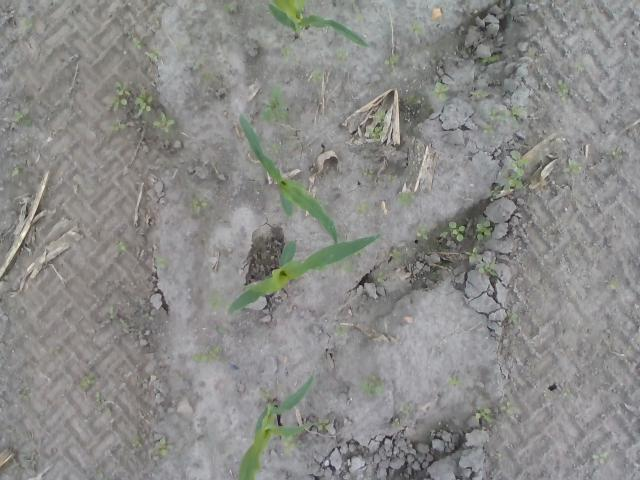Maize: (238, 112, 339, 245), (223, 233, 378, 316), (238, 374, 314, 480), (267, 0, 369, 48)
Weeds: (101, 80, 154, 114), (258, 84, 289, 122), (191, 345, 224, 366), (485, 106, 528, 122), (361, 372, 386, 398), (366, 110, 386, 140), (447, 220, 468, 244), (475, 215, 493, 241), (472, 406, 494, 426), (154, 112, 176, 132), (511, 152, 529, 176), (154, 438, 174, 459), (384, 52, 400, 76), (79, 371, 97, 391), (433, 81, 450, 102), (562, 158, 584, 174), (544, 389, 576, 400), (503, 174, 522, 192), (397, 191, 417, 208), (207, 291, 224, 311), (192, 197, 210, 215), (15, 110, 32, 128), (110, 120, 130, 135), (477, 262, 498, 276), (126, 31, 142, 49), (464, 246, 480, 264), (526, 49, 544, 65), (17, 384, 32, 401), (556, 78, 570, 96), (144, 48, 162, 62), (416, 222, 428, 241), (388, 248, 402, 264), (105, 304, 118, 321), (591, 451, 608, 464), (406, 21, 424, 33), (282, 436, 297, 450), (399, 401, 414, 415), (19, 16, 32, 32), (256, 387, 272, 400), (356, 202, 374, 213), (335, 48, 348, 63), (112, 241, 128, 253), (312, 66, 324, 82), (342, 258, 354, 274), (500, 400, 512, 415), (469, 89, 488, 98), (408, 95, 425, 105), (131, 436, 145, 448), (482, 124, 496, 136), (610, 146, 622, 160), (448, 374, 464, 384), (157, 256, 169, 269), (143, 312, 158, 322), (334, 324, 346, 336), (374, 272, 386, 284), (212, 326, 225, 337), (10, 167, 24, 177), (480, 56, 497, 64), (316, 419, 328, 430), (362, 168, 376, 177), (354, 15, 365, 26), (490, 186, 501, 196), (222, 3, 232, 13), (271, 144, 280, 153), (280, 48, 289, 56), (392, 418, 401, 426), (511, 311, 519, 320)
